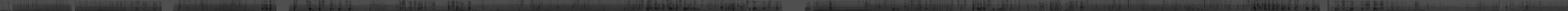Moan: (646, 0, 652, 11), (1281, 0, 1286, 11), (338, 0, 342, 11), (348, 0, 352, 11), (683, 0, 687, 11), (654, 0, 657, 11), (720, 0, 723, 11), (977, 0, 980, 11), (1253, 0, 1256, 11), (261, 0, 263, 11), (269, 0, 271, 11), (309, 0, 311, 11), (972, 0, 974, 11), (1288, 0, 1290, 11), (1312, 0, 1313, 11)
